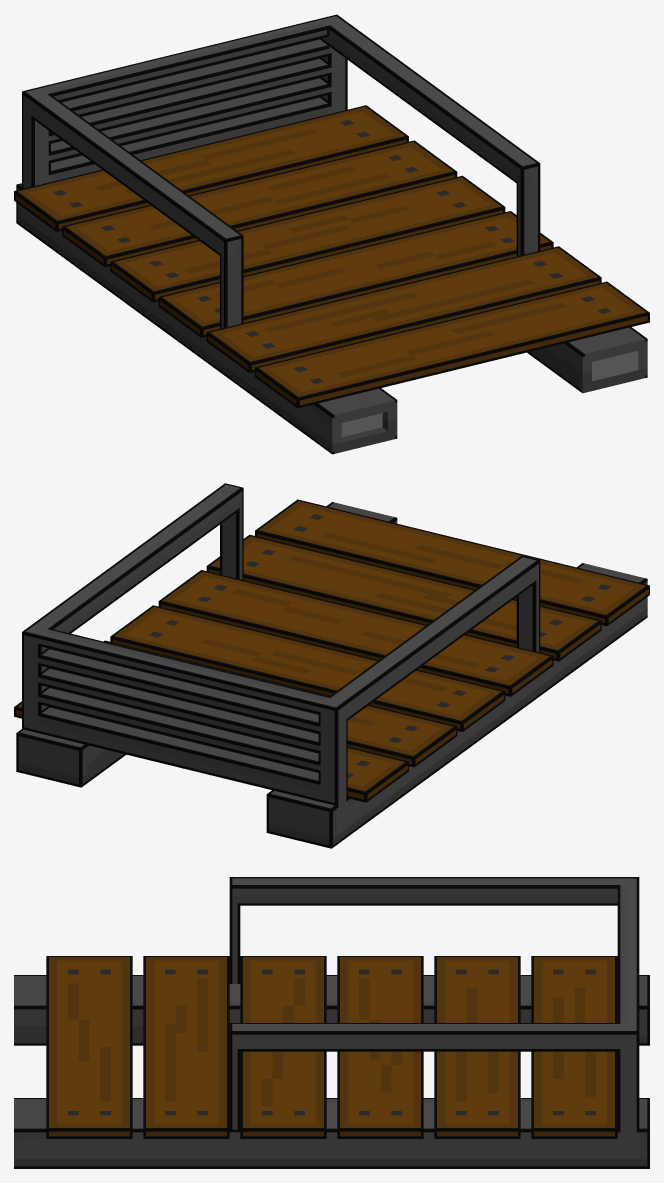
File: Sanki-1.obj
The picture shows the model from 3 angles, top to bottom: view 1: azimuth 30°, elevation 25°; view 2: azimuth 150°, elevation 25°; view 3: azimuth 270°, elevation 25°; orthographic projection.
Size of the model in its own units: 15.2 by 5.6 by 23.6.
1 material, 1 textured.
